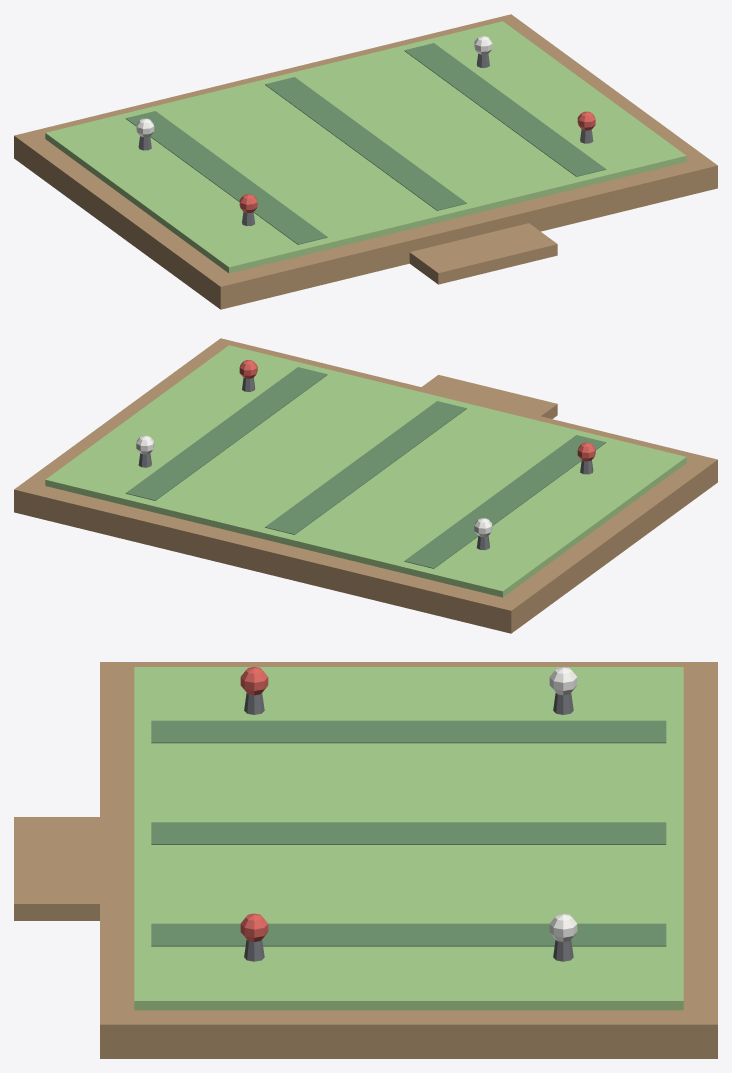
The model's file is golf-course-and-clubhouse-teeing-ground-box-235c1c8c__33469.glb.
3 renders of one model, top to bottom at view 1: azimuth 30°, elevation 25°; view 2: azimuth 150°, elevation 25°; view 3: azimuth 270°, elevation 25°, orthographic. The views are drawn at different scales.
Visible parts, largest first — view 1: teeing-ground-box; view 2: teeing-ground-box; view 3: teeing-ground-box.
Boxes of the visible parts, bbox=[...] form: teeing-ground-box: bbox=[14, 14, 717, 309]; teeing-ground-box: bbox=[14, 338, 717, 633]; teeing-ground-box: bbox=[14, 662, 717, 1058].
Bounding box in the file's own units: 5 × 0.5549 × 4.1.
